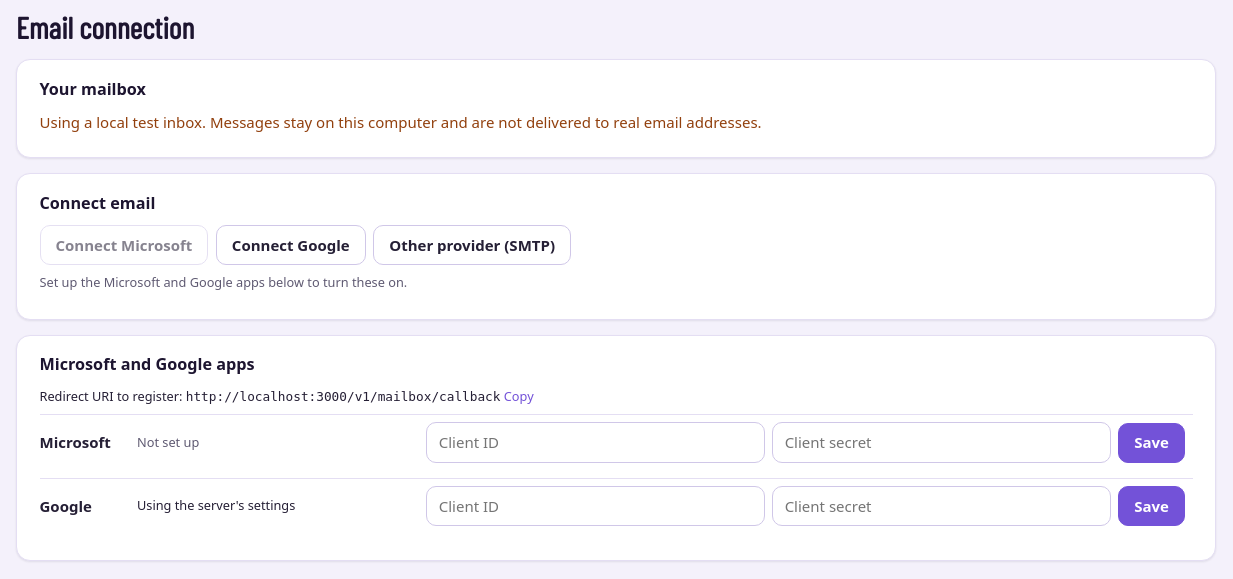
it: lets owners and admins enter the Microsoft app; the secret is never shown again
Expected: the text "Not set up" is shown, [137,433,199,451]
Expected: the text "Using the server's settings" is shown, [137,496,295,514]
Type " my-app-id " into the field named "Microsoft client ID" at {"x": 596, "y": 443}, box [426,422,765,463]
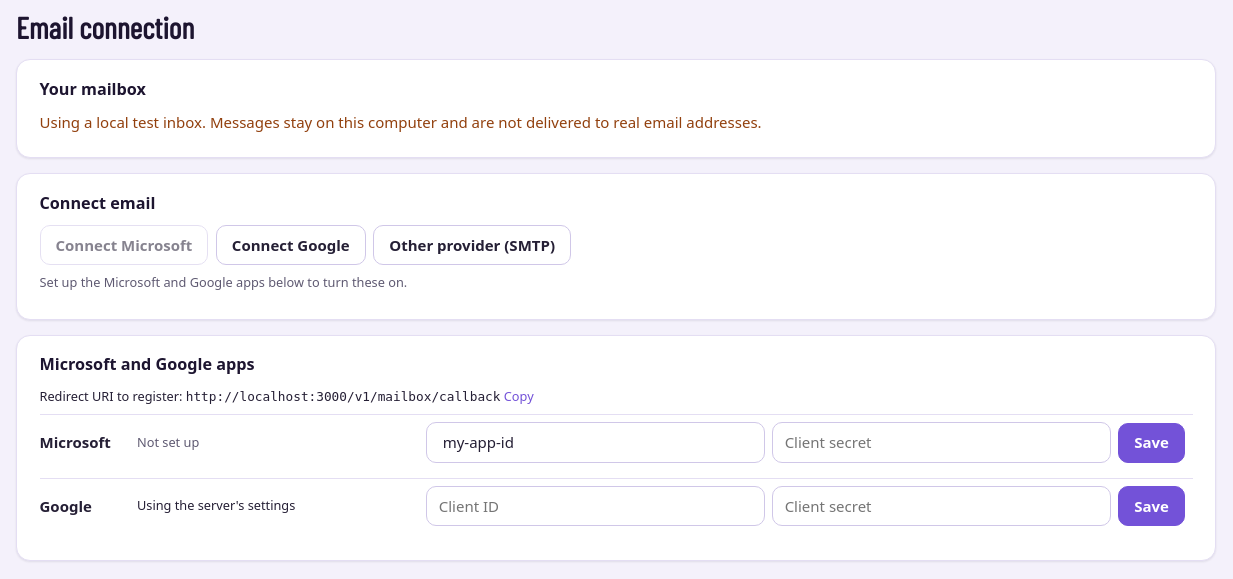
Type "s3cret-9f2a" into the password field named "Microsoft client secret" at {"x": 942, "y": 443}, box [772,422,1111,463]
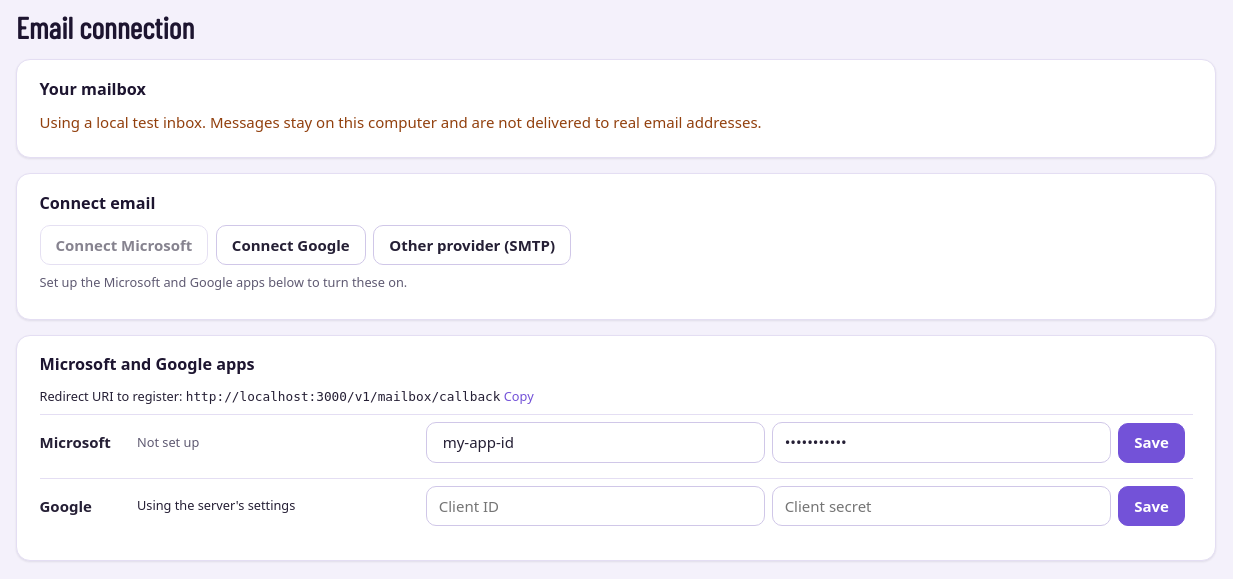
Click the button "Save" in the row of "Not set up" at {"x": 1152, "y": 443}, box [1118,423,1185,463]
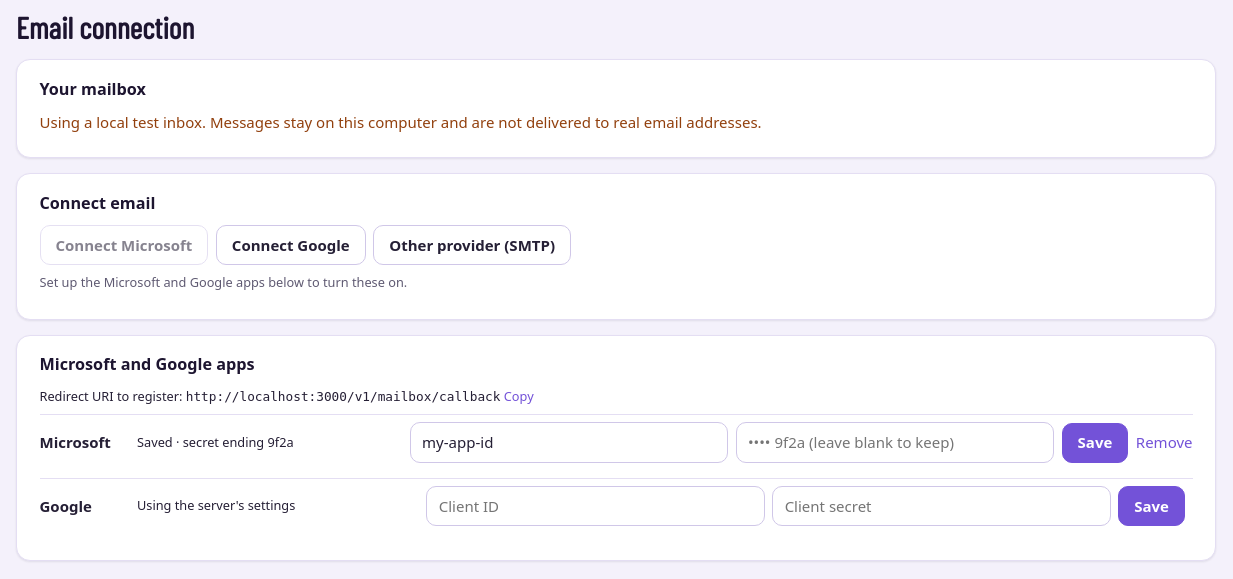
Now the text "Saved · secret ending 9f2a" is shown, box [137,433,294,451]
Now the password field named "Microsoft client secret" is empty, box [736,422,1054,463]
